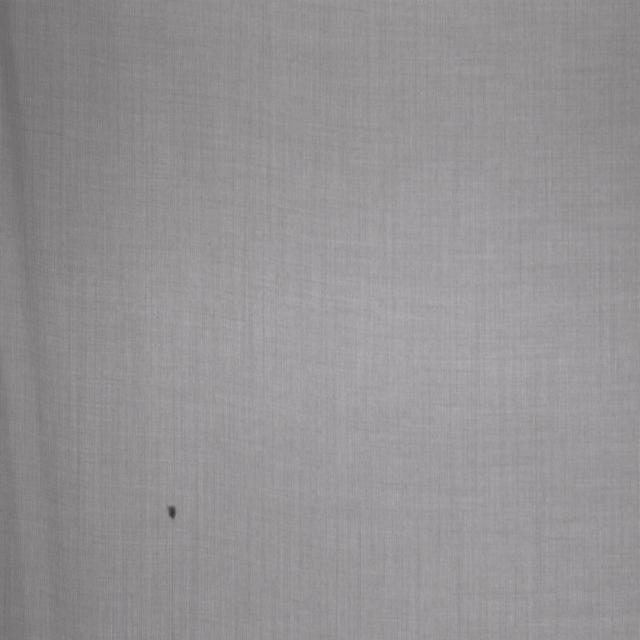dirty: (168, 503, 177, 520)
